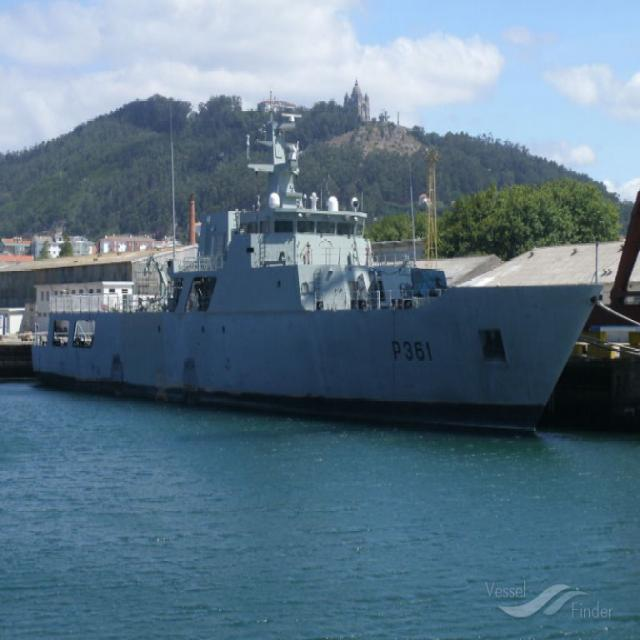Naval Ship: (32, 97, 602, 429)
